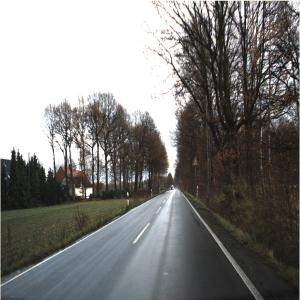CYCLES CROSSING: (193, 157, 200, 168)
